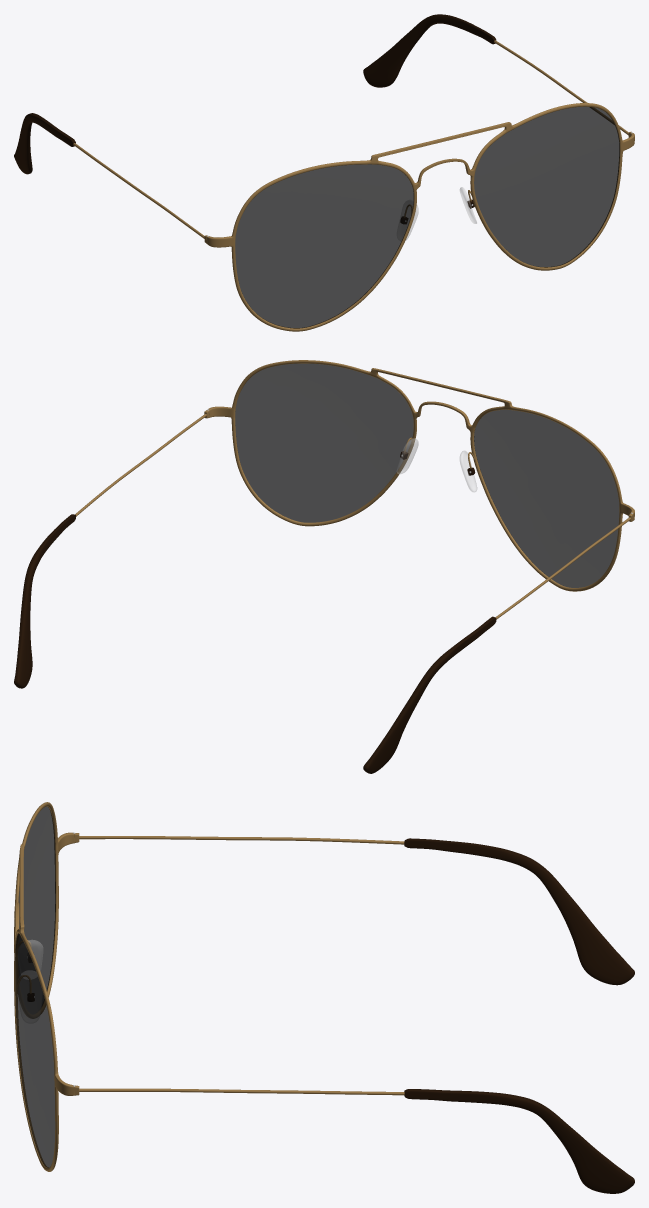
The picture shows the model from 3 angles, top to bottom: view 1: azimuth 30°, elevation 25°; view 2: azimuth 150°, elevation 25°; view 3: azimuth 270°, elevation 25°; orthographic projection. The views are drawn at different scales.
Visible parts, largest first — view 1: Aviators; view 2: Aviators; view 3: Aviators.
Boxes of the visible parts, x1,y1,x2,y2 form: Aviators: (14,14,634,331); Aviators: (14,360,634,773); Aviators: (14,802,634,1193).
Size of the model in its own units: 13.96 by 5.22 by 14.4.
